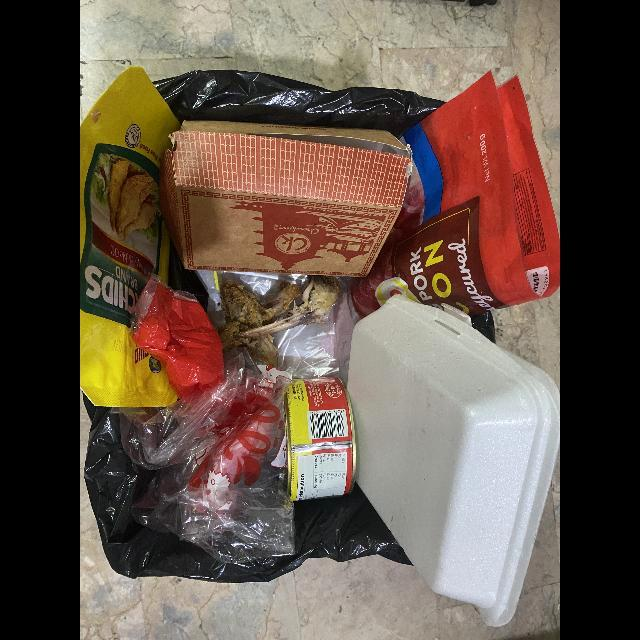aluminum: (287, 379, 355, 501)
cardboard: (159, 120, 413, 279)
food_wrapper: (80, 69, 182, 410)
left_over_food: (220, 274, 340, 369)
plastic_bag: (117, 275, 293, 565)
